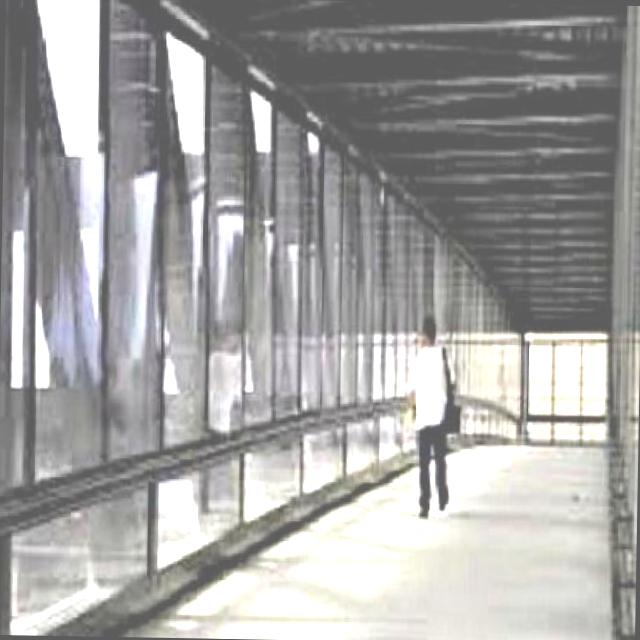Person: (402, 302, 460, 517)
